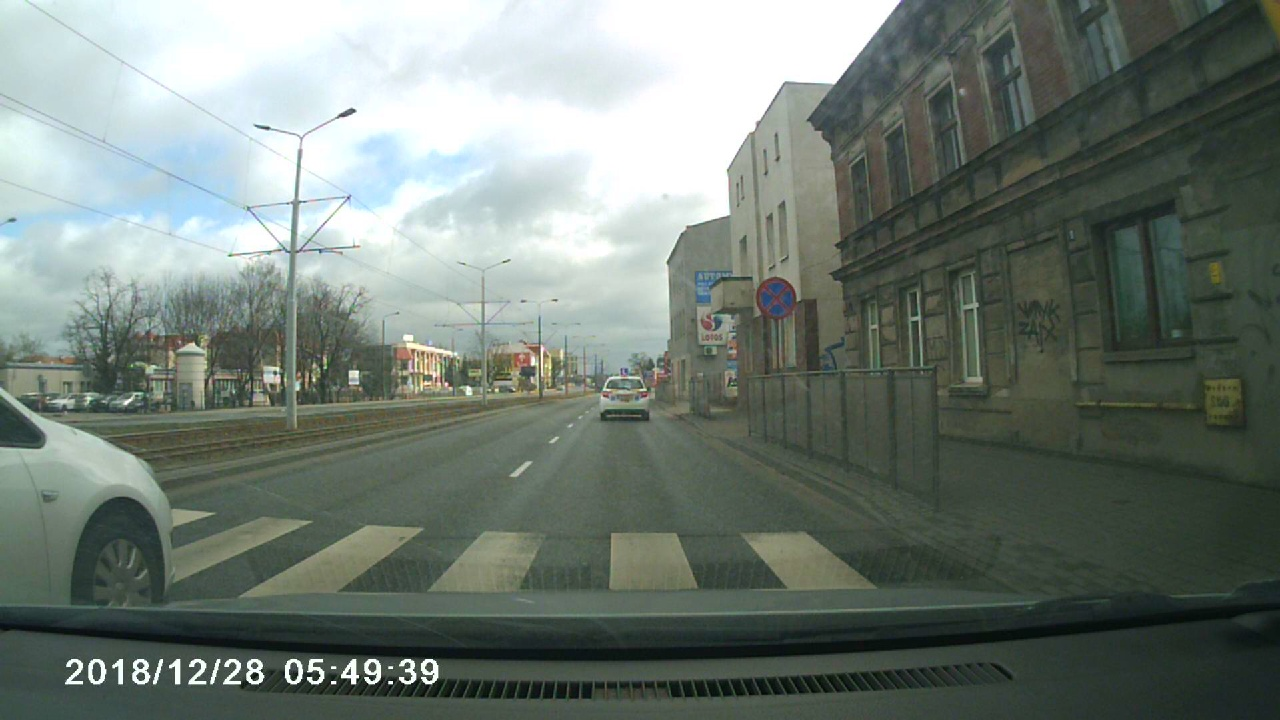B35: (754, 276, 802, 322)
